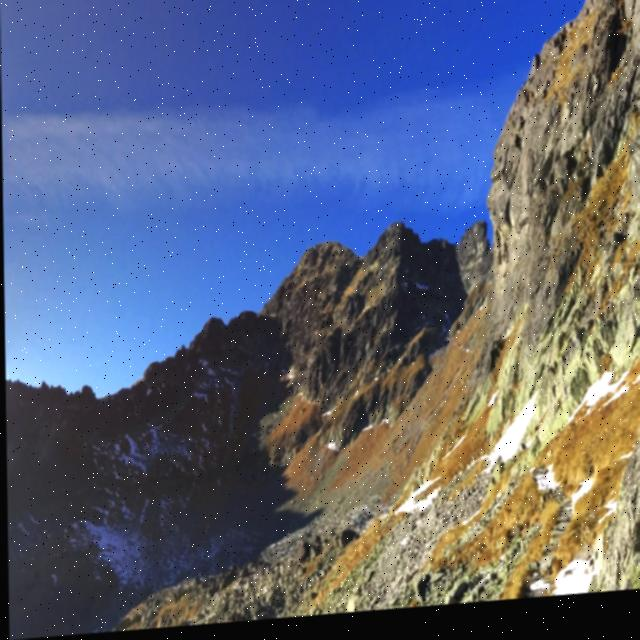Swinica: (217, 121, 435, 362)
